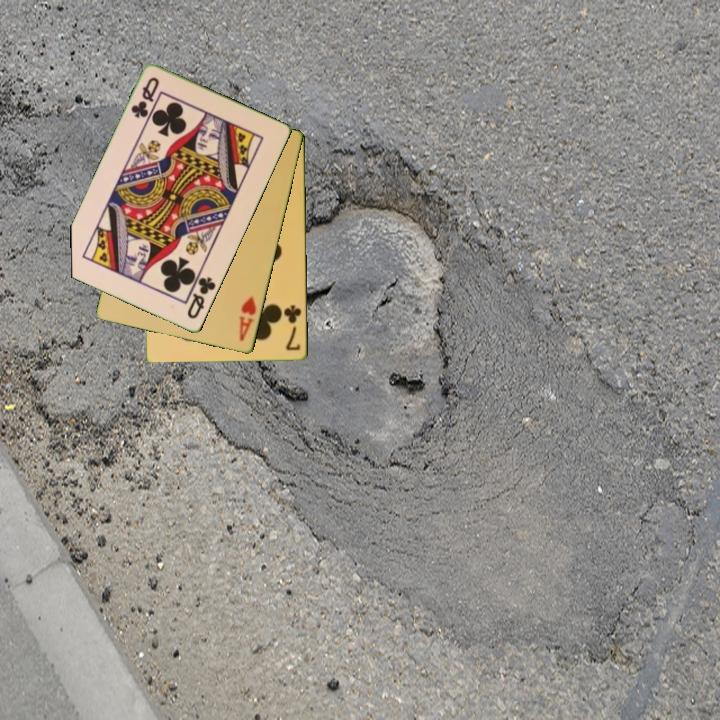7c: (280, 302, 304, 353)
Ah: (236, 293, 260, 345)
Qc: (183, 269, 219, 322), (127, 74, 162, 121)
